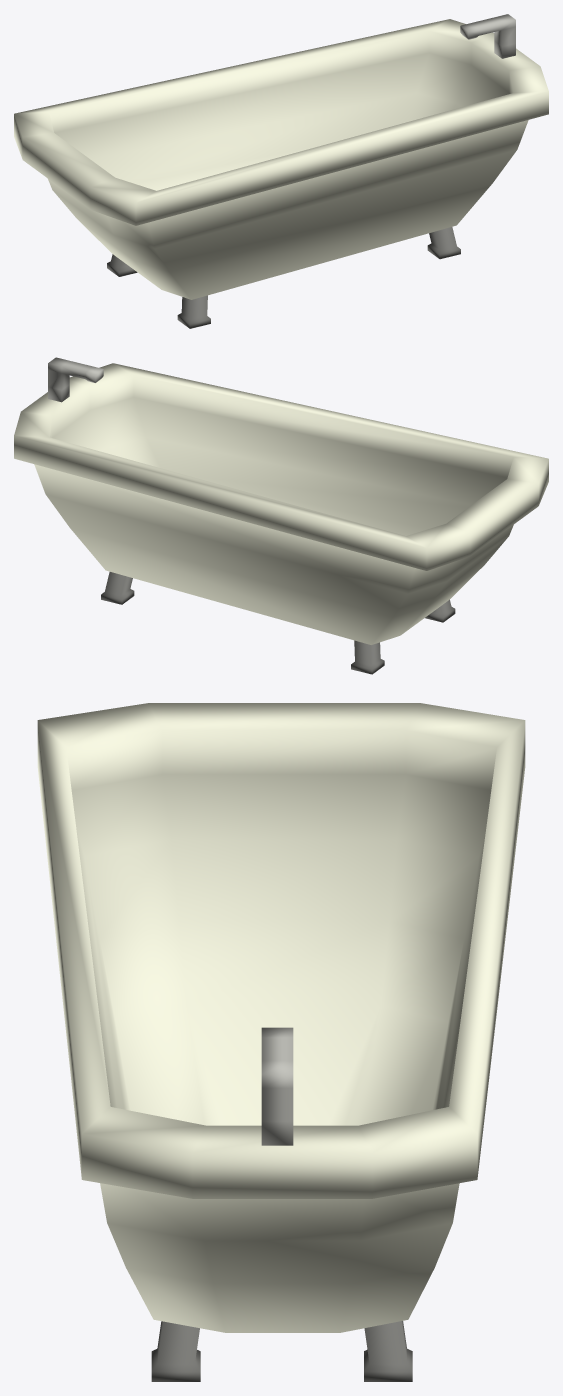
Rendered from Bath.fbx.
3 renders of one model, top to bottom at view 1: azimuth 30°, elevation 25°; view 2: azimuth 150°, elevation 25°; view 3: azimuth 270°, elevation 25°, orthographic. The views are drawn at different scales.
Visible parts, largest first — view 1: Cube.8169; view 2: Cube.8169; view 3: Cube.8169.
Part boxes in pixels (left/top/right/bottom): Cube.8169: left=14, top=14, right=548, bottom=328; Cube.8169: left=14, top=357, right=548, bottom=674; Cube.8169: left=37, top=703, right=525, bottom=1381.
Bounding box in the file's own units: 369 × 149 × 169.
1 material, 1 textured.
